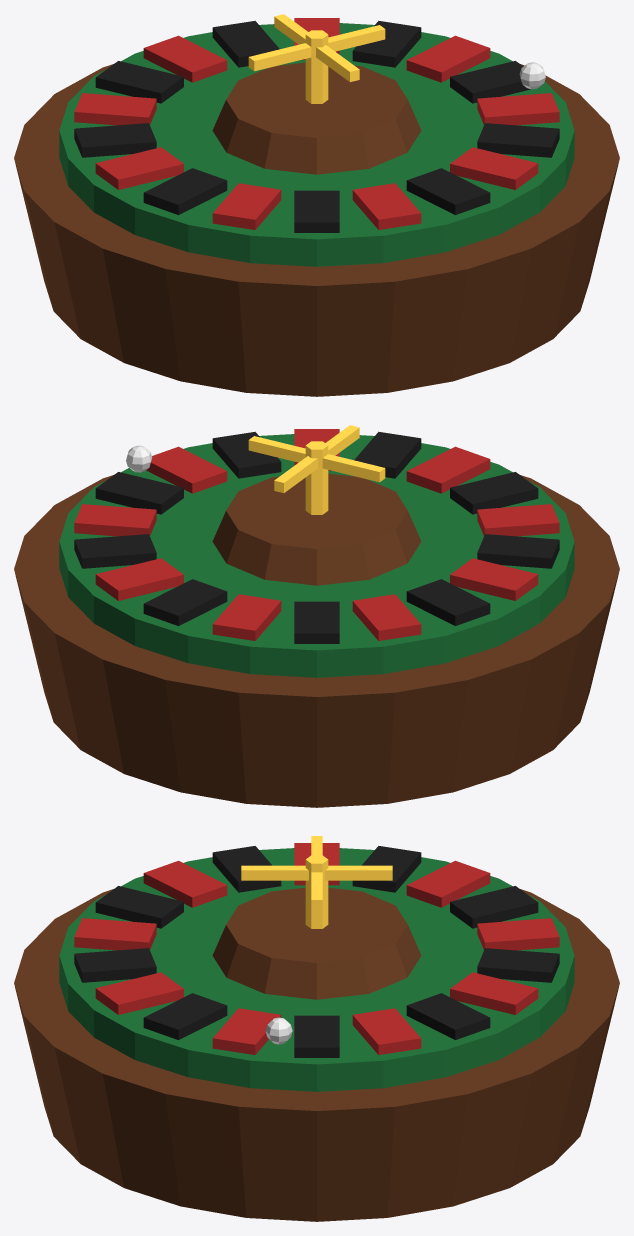
File: roulette.glb
3 views of the same model, one above another, from view 1: azimuth 30°, elevation 25°; view 2: azimuth 150°, elevation 25°; view 3: azimuth 270°, elevation 25° (orthographic).
Parts seen in each view (by area): view 1: base_roulette_wood, wheel_felt, wheel_roulette_black, wheel_roulette_red, wheel_roulette_wood, spindle_gold, ball_ball; view 2: base_roulette_wood, wheel_felt, wheel_roulette_black, wheel_roulette_red, wheel_roulette_wood, spindle_gold, ball_ball; view 3: base_roulette_wood, wheel_felt, wheel_roulette_black, wheel_roulette_red, wheel_roulette_wood, spindle_gold, ball_ball.
Boxes of the visible parts, box(x1,y1,x2,y2) form: base_roulette_wood: box(14, 64, 619, 396); wheel_felt: box(59, 23, 574, 266); wheel_roulette_black: box(74, 20, 559, 232); wheel_roulette_red: box(74, 18, 559, 229); wheel_roulette_wood: box(212, 62, 421, 174); spindle_gold: box(248, 14, 385, 103); ball_ball: box(519, 62, 545, 89); base_roulette_wood: box(14, 475, 619, 807); wheel_felt: box(59, 434, 574, 677); wheel_roulette_black: box(74, 431, 559, 643); wheel_roulette_red: box(74, 429, 559, 640); wheel_roulette_wood: box(212, 473, 421, 585); spindle_gold: box(248, 425, 385, 514); ball_ball: box(126, 445, 152, 472); base_roulette_wood: box(14, 889, 619, 1221); wheel_felt: box(59, 848, 574, 1091); wheel_roulette_black: box(74, 846, 559, 1057); wheel_roulette_red: box(74, 843, 559, 1054); wheel_roulette_wood: box(212, 887, 421, 999); spindle_gold: box(241, 836, 392, 928); ball_ball: box(265, 1017, 292, 1044).
Bounding box in the file's own units: 0.8 × 0.36 × 0.8.
